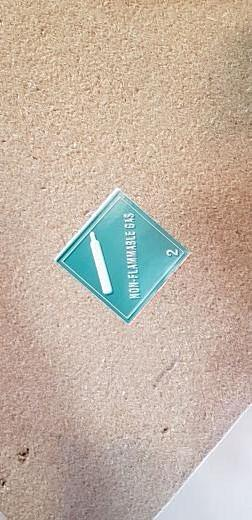non-flammable-gas: (56, 189, 190, 324)
